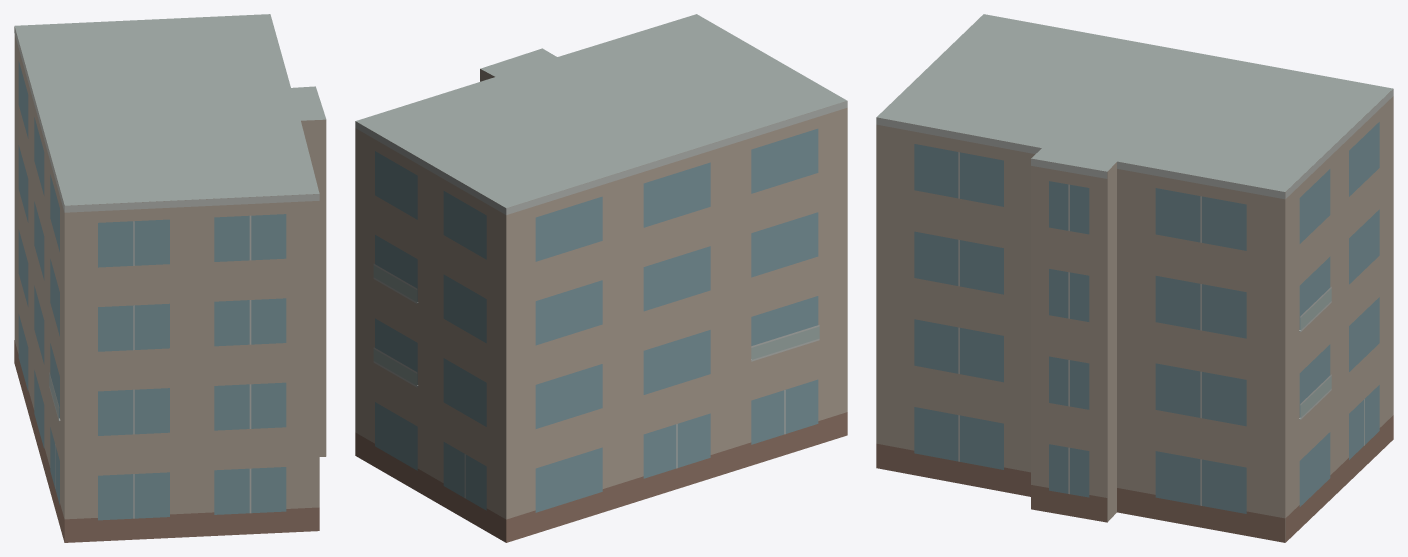
File: survey-upis-32982462.glb
The picture shows the model from 3 angles, left to right: view 1: azimuth 30°, elevation 25°; view 2: azimuth 150°, elevation 25°; view 3: azimuth 270°, elevation 25°; orthographic projection. The views are drawn at different scales.
Parts seen in each view (by area): view 1: survey-upis-32982462.tmp; view 2: survey-upis-32982462.tmp; view 3: survey-upis-32982462.tmp.
Part boxes in pixels (x1,y1,x2,y2): survey-upis-32982462.tmp: [14, 14, 326, 542]; survey-upis-32982462.tmp: [355, 14, 847, 542]; survey-upis-32982462.tmp: [876, 14, 1393, 542].
Bounding box in the file's own units: 12.8 × 11.75 × 15.71.
